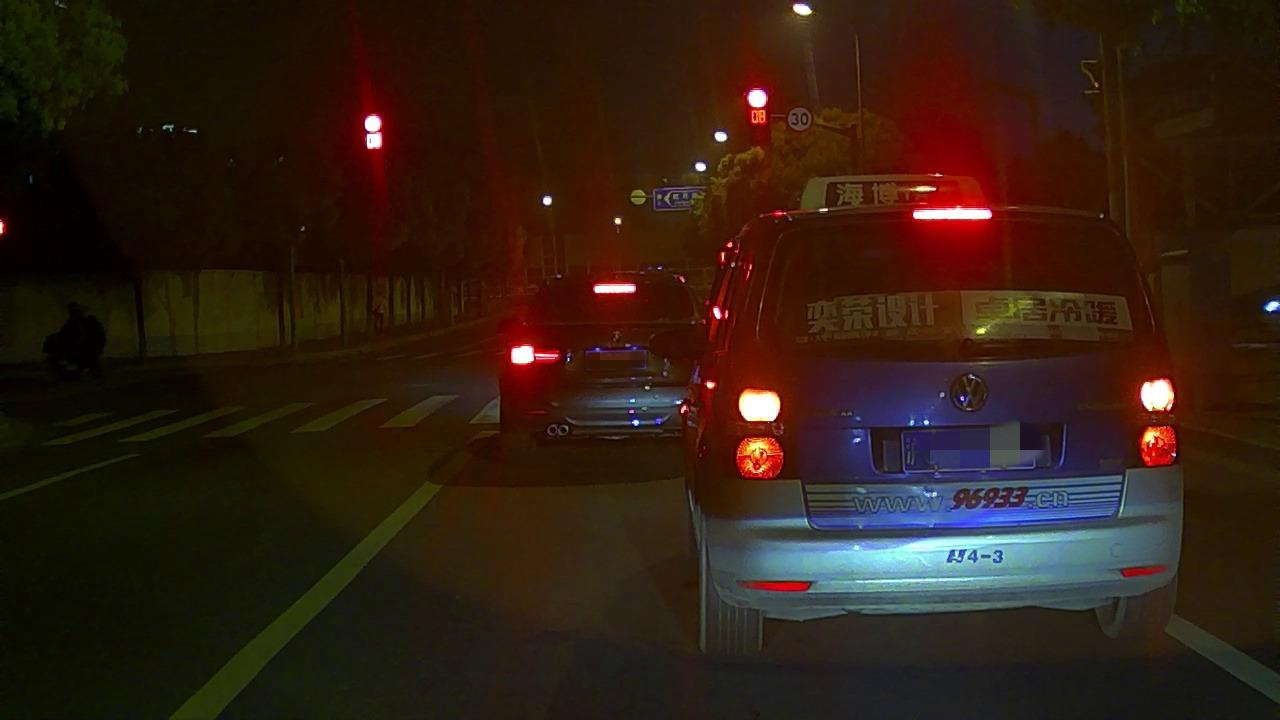traffic_light: (748, 88, 769, 143), (364, 114, 381, 149)
